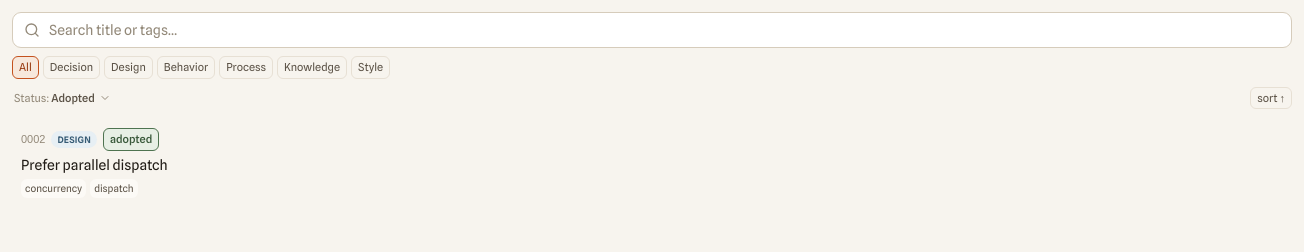
Test case: NodesView index (search / filter / sort) › status filter narrows to one status
Click the button "Status: adopted": (62, 98) 12,90 -> 113,106
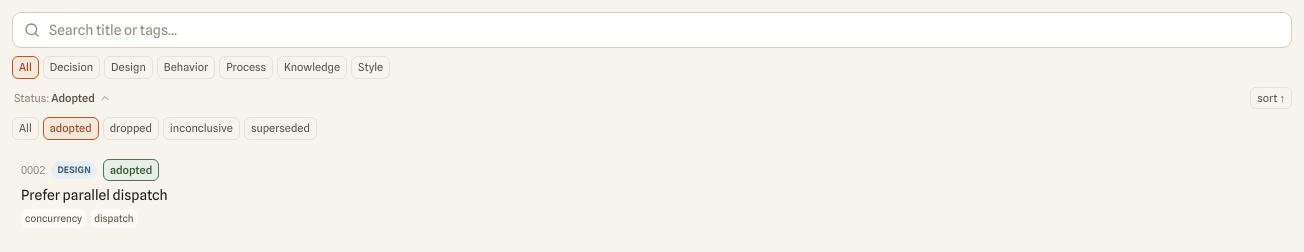
Click the radio button labelled "superseded": (280, 128) 244,117 -> 317,140
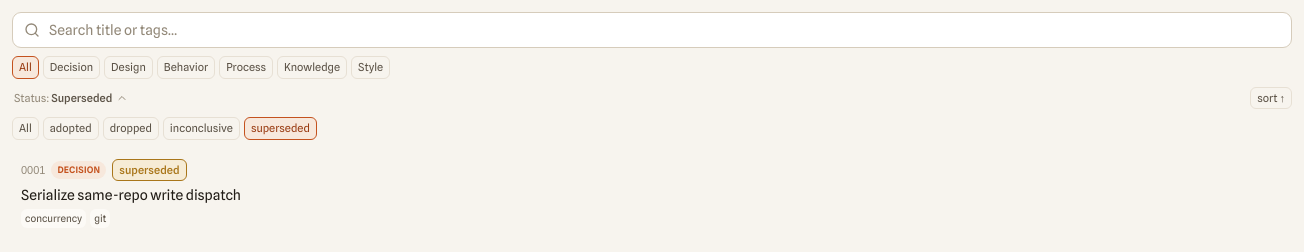
Expected: the button with test id "node-row-0001" is shown, 12,152 -> 1292,235
Expected: the button with test id "node-row-0002" is gone
